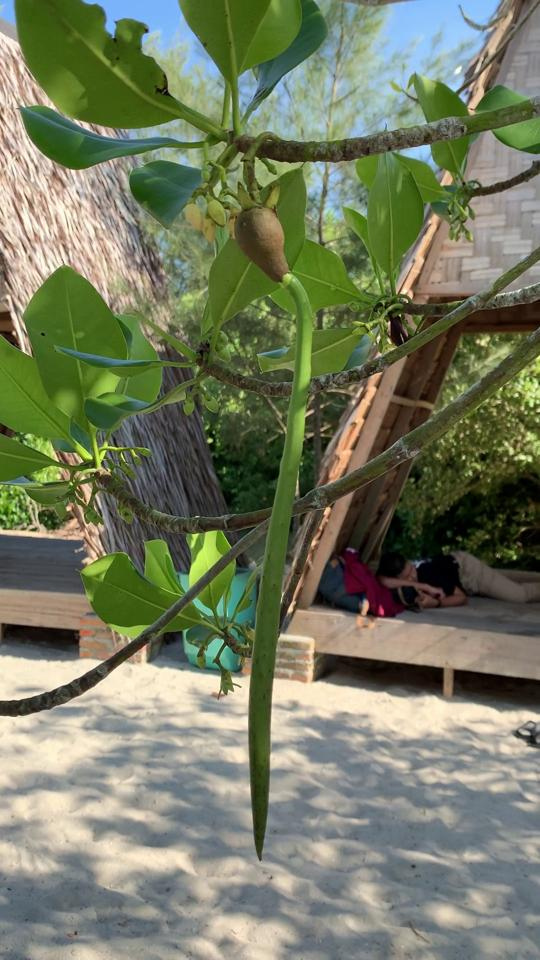setengah matang: (224, 181, 313, 863)
